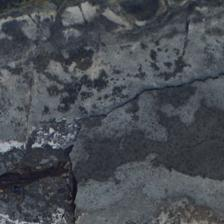Crack: (80, 0, 144, 97), (118, 0, 175, 54)
